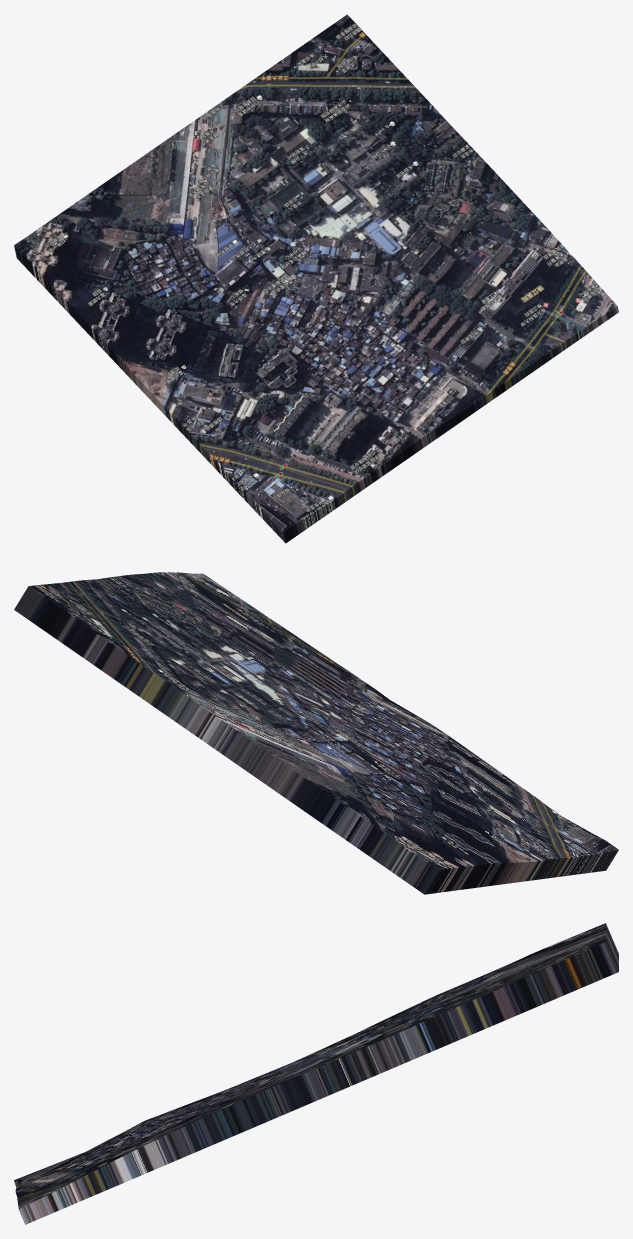
3 renders of one model, top to bottom at view 1: azimuth 30°, elevation 25°; view 2: azimuth 150°, elevation 25°; view 3: azimuth 270°, elevation 25°, orthographic. The views are drawn at different scales.
Parts seen in each view (by area): view 1: 0_18_12; view 2: 0_18_12; view 3: 0_18_12.
Part boxes in pixels (left/top/right/bottom): 0_18_12: left=14, top=14, right=618, bottom=543; 0_18_12: left=14, top=572, right=618, bottom=894; 0_18_12: left=14, top=923, right=618, bottom=1224.
Size of the model in its own units: 603 by 453 by 553.
1 material, 1 textured.
